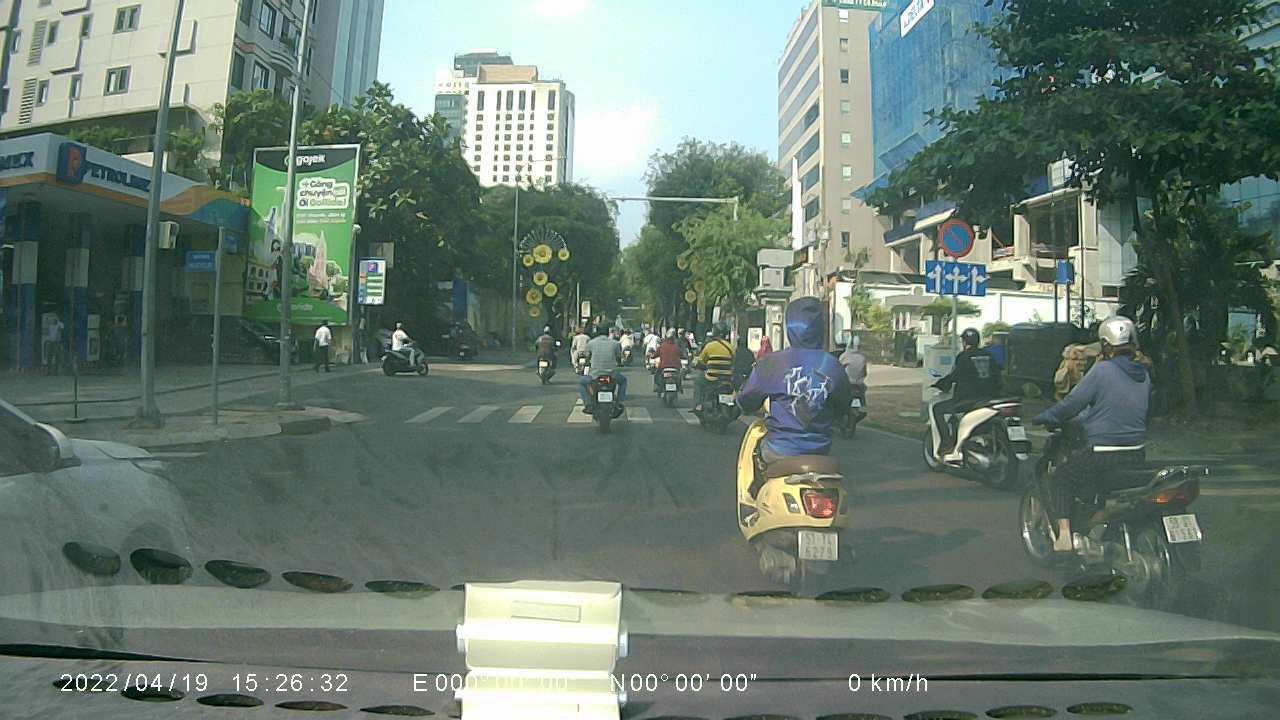Cam do xe: (936, 217, 978, 259)
